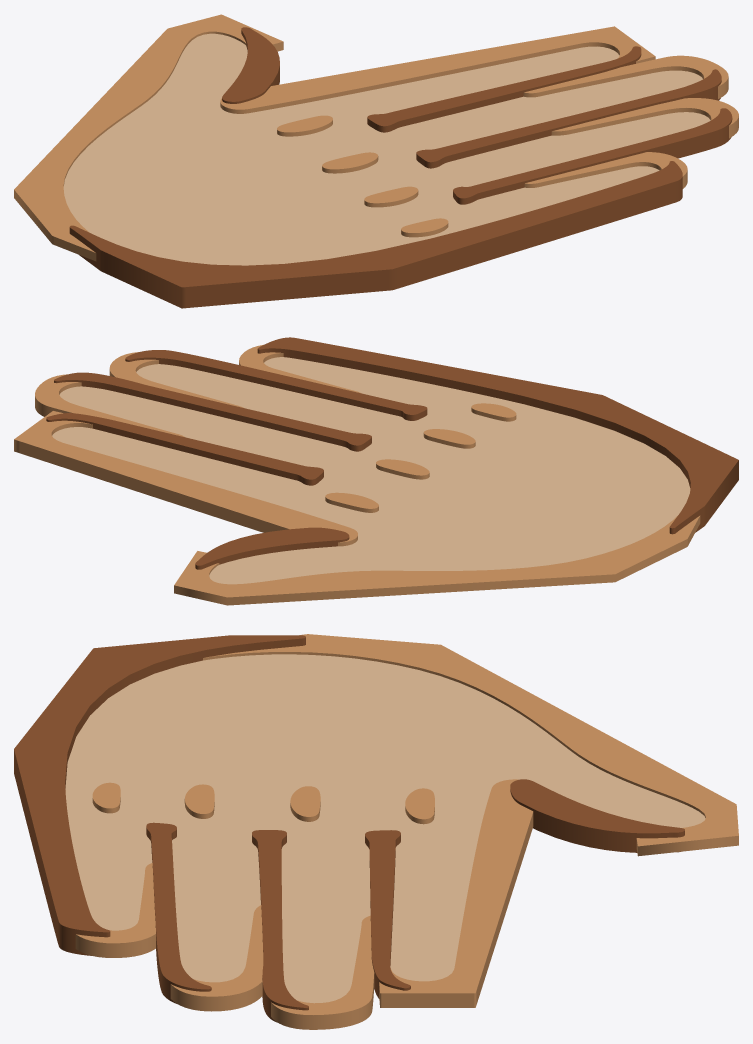
Rendered from emoji_u1faf1_1f3fc.glb.
The picture shows the model from 3 angles, top to bottom: view 1: azimuth 30°, elevation 25°; view 2: azimuth 150°, elevation 25°; view 3: azimuth 270°, elevation 25°; orthographic projection. The views are drawn at different scales.
Parts seen in each view (by area): view 1: emoji_u1faf1_1f3fc; view 2: emoji_u1faf1_1f3fc; view 3: emoji_u1faf1_1f3fc.
Part boxes in pixels (x1,y1,x2,y2): emoji_u1faf1_1f3fc: [14, 14, 738, 308]; emoji_u1faf1_1f3fc: [14, 337, 738, 605]; emoji_u1faf1_1f3fc: [14, 634, 738, 1029].
Size of the model in its own units: 0.0334 by 0.001 by 0.0267.
